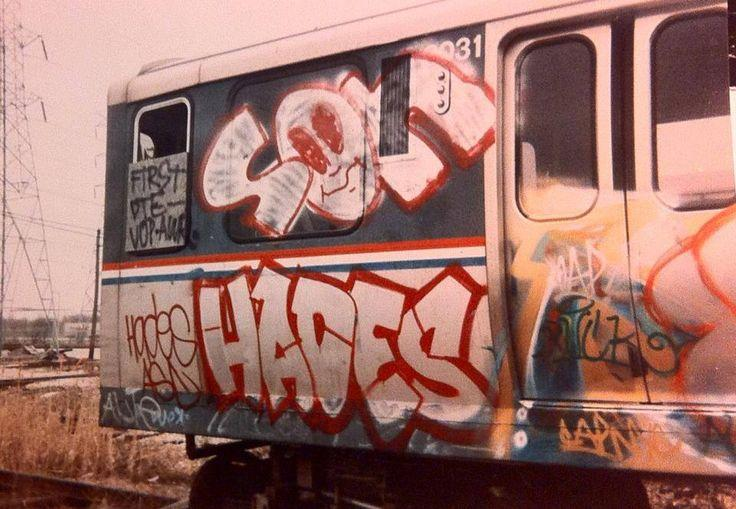graffiti: (193, 265, 493, 449), (198, 56, 492, 233), (521, 240, 711, 403), (513, 407, 735, 475), (644, 207, 735, 339), (134, 290, 204, 405), (125, 154, 191, 253), (99, 388, 203, 433)
